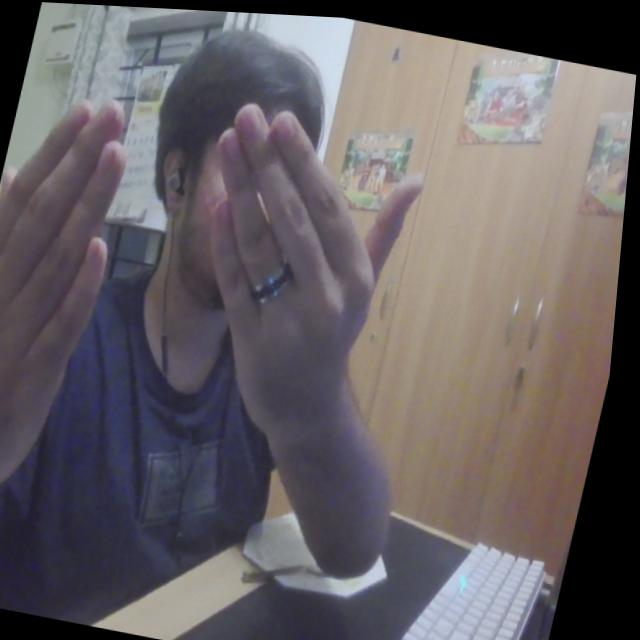thankyou: (0, 46, 448, 572)
